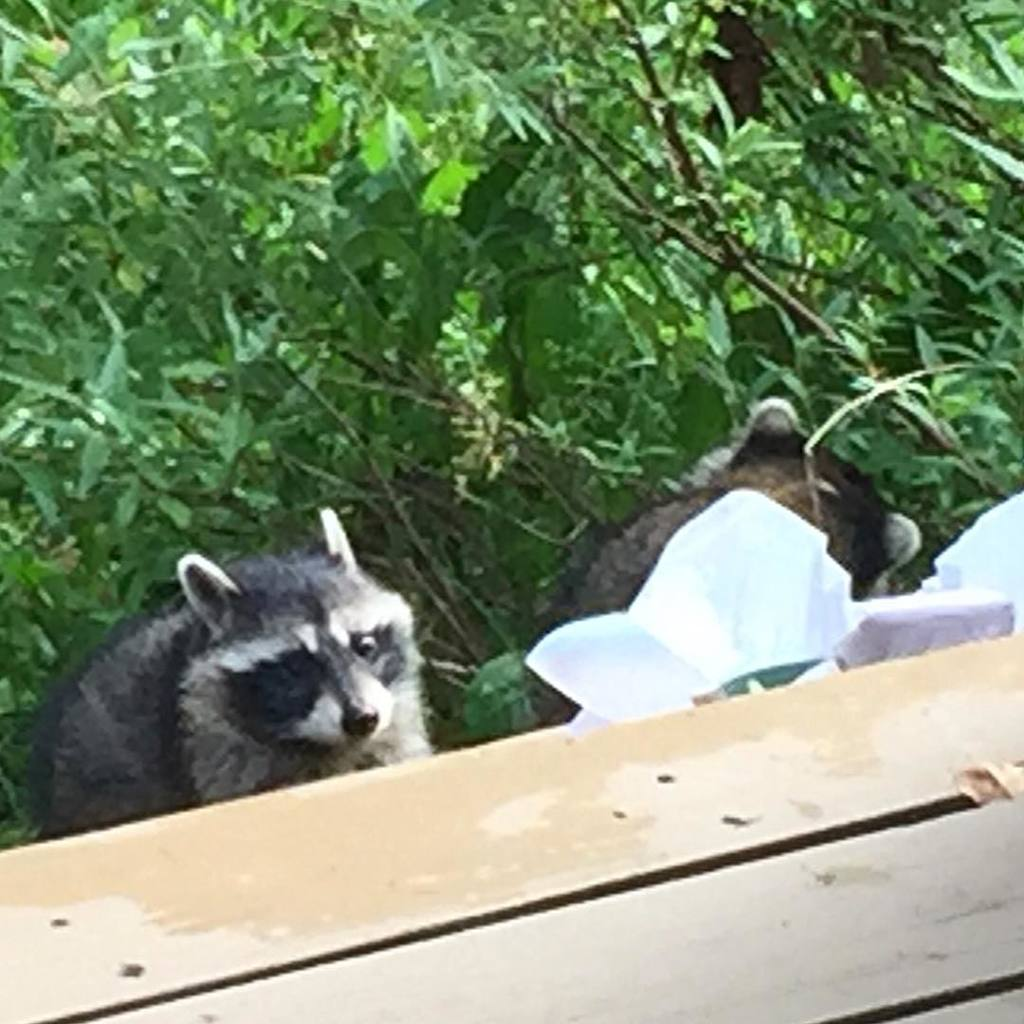raccoon: (28, 509, 436, 836)
